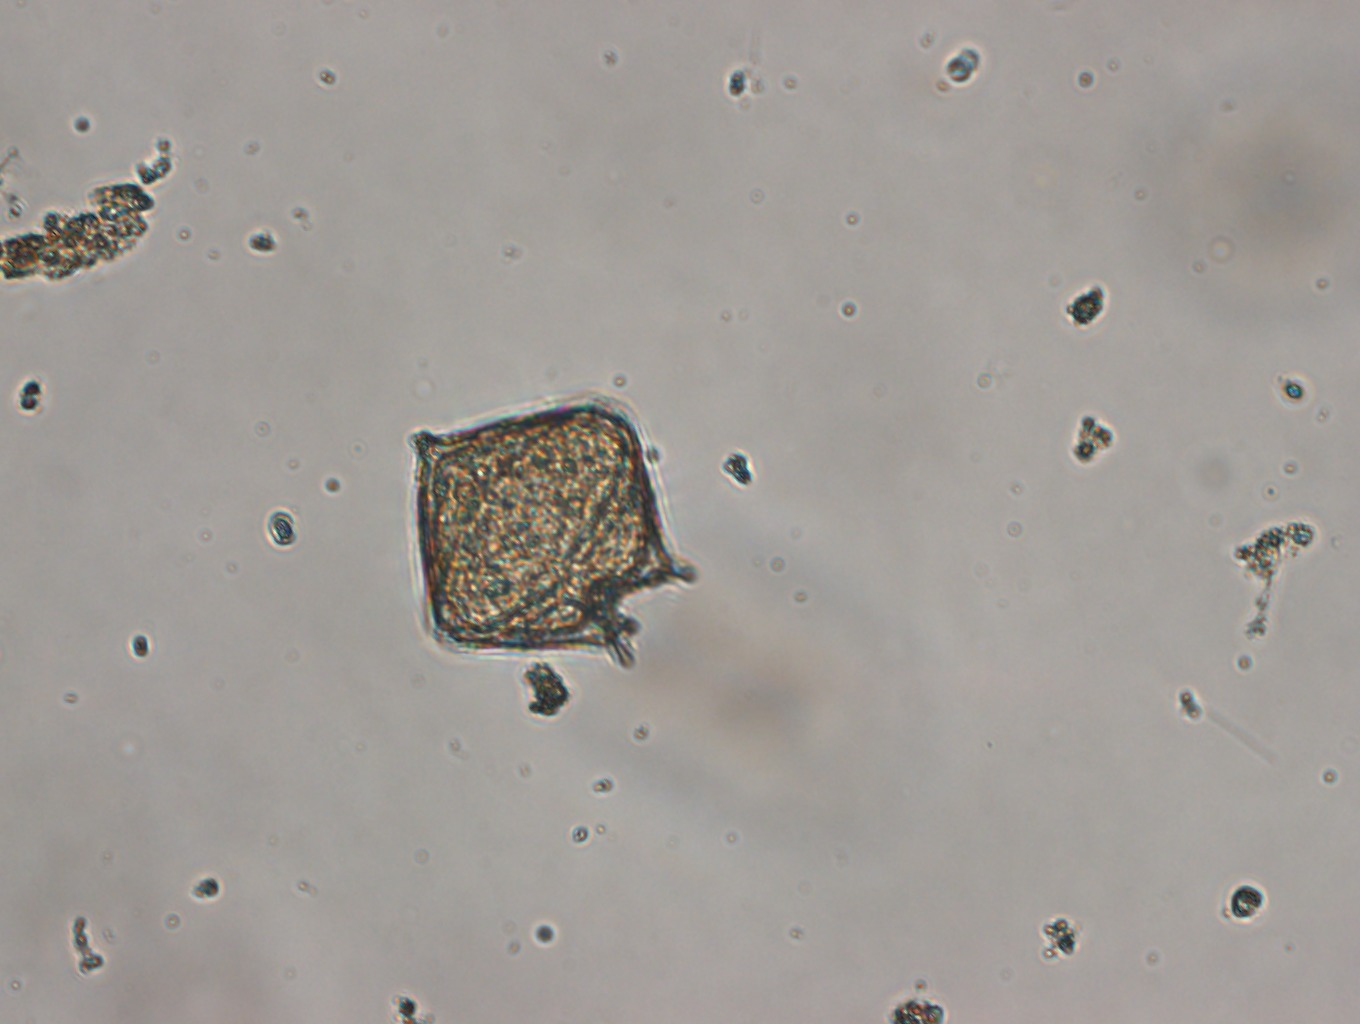protoperidinium: (405, 398, 701, 667)
